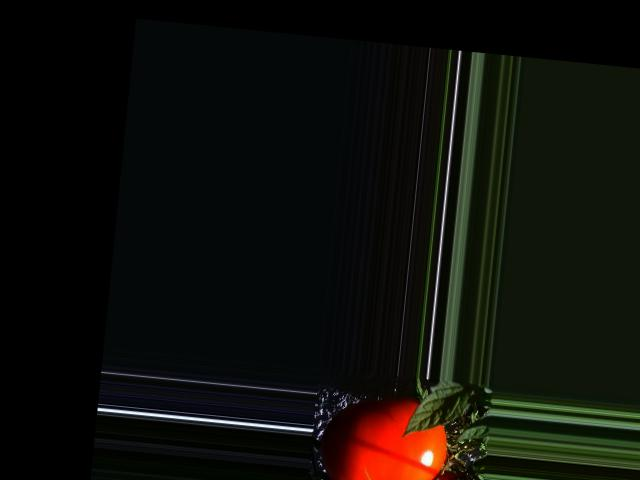tomato: (317, 390, 452, 480)
